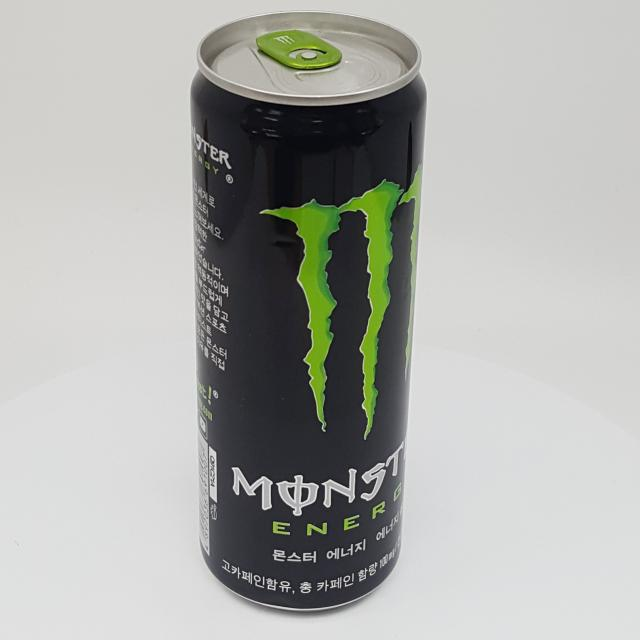--------355ML: (190, 11, 427, 611)
